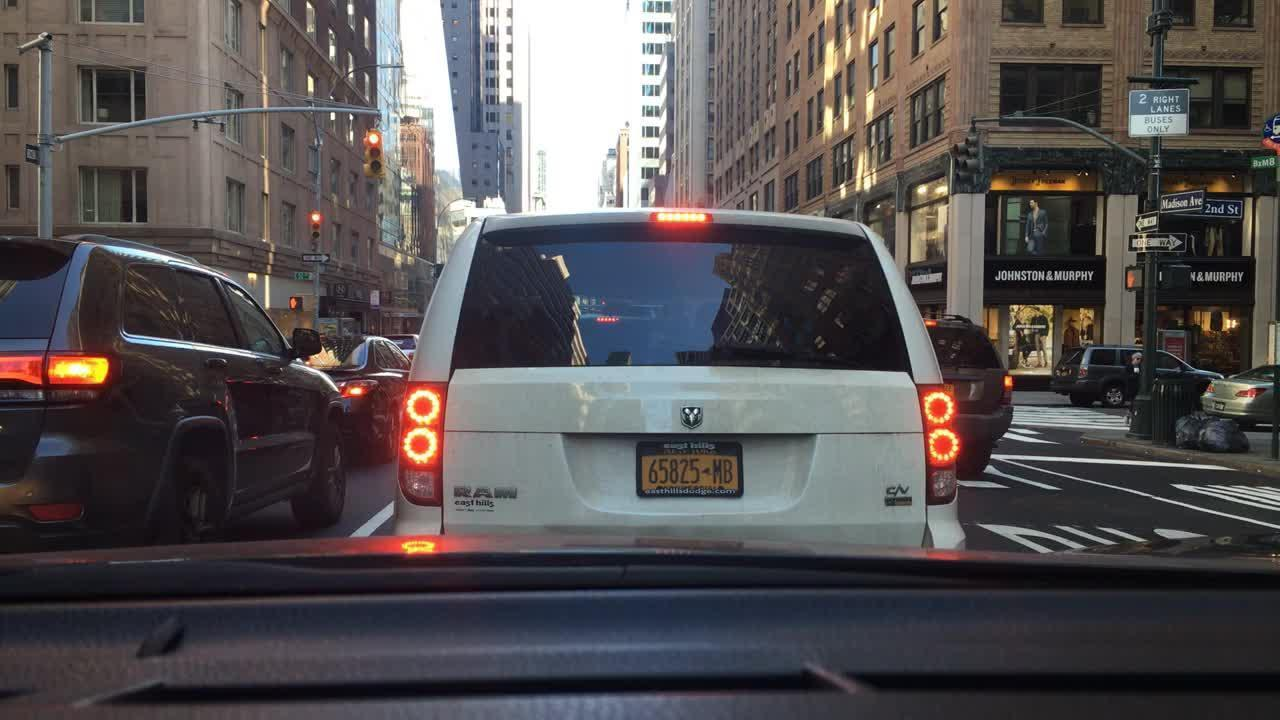ram: (676, 399, 709, 438)
